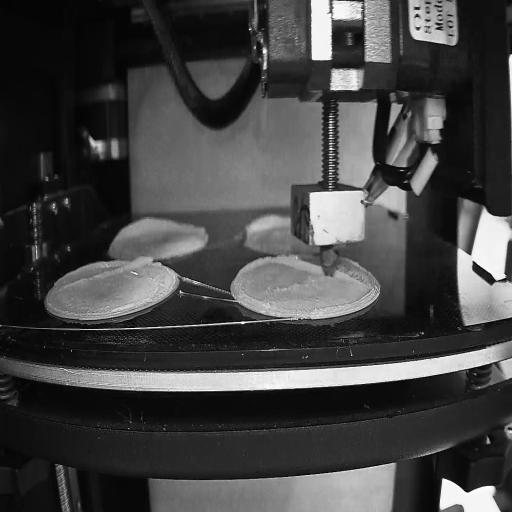over_extrusion: (63, 254, 154, 290), (114, 213, 205, 245), (241, 210, 290, 239), (279, 254, 321, 274), (337, 269, 360, 283)
